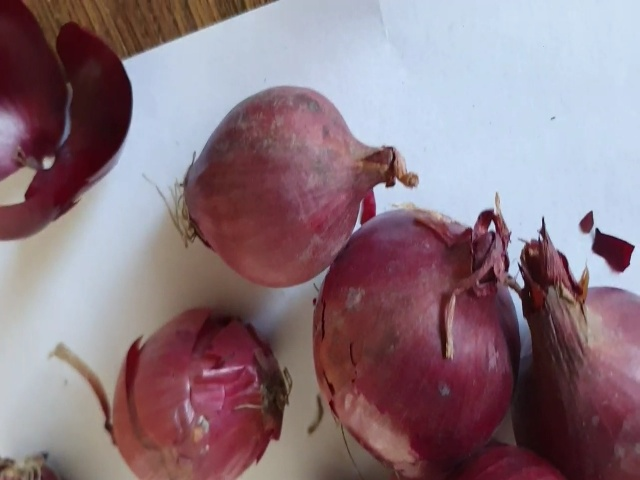red_onion: (311, 207, 518, 462), (167, 76, 422, 209), (103, 307, 295, 480), (520, 218, 640, 480)
